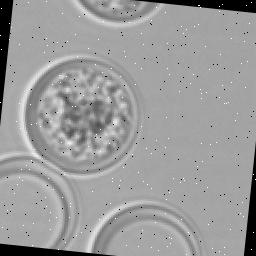picoshell: (17, 53, 141, 176), (0, 150, 78, 248), (83, 198, 203, 256), (71, 0, 163, 27)
